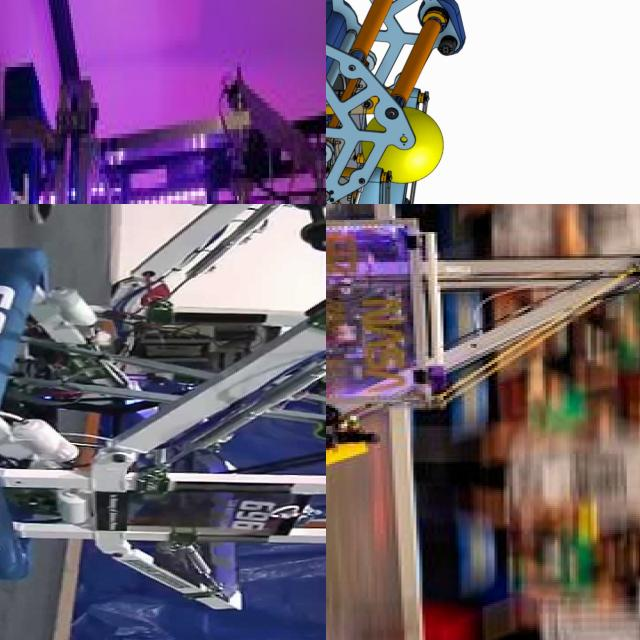FRC-Robots: (0, 207, 326, 621), (326, 204, 640, 534), (0, 0, 326, 204), (326, 0, 640, 204)
